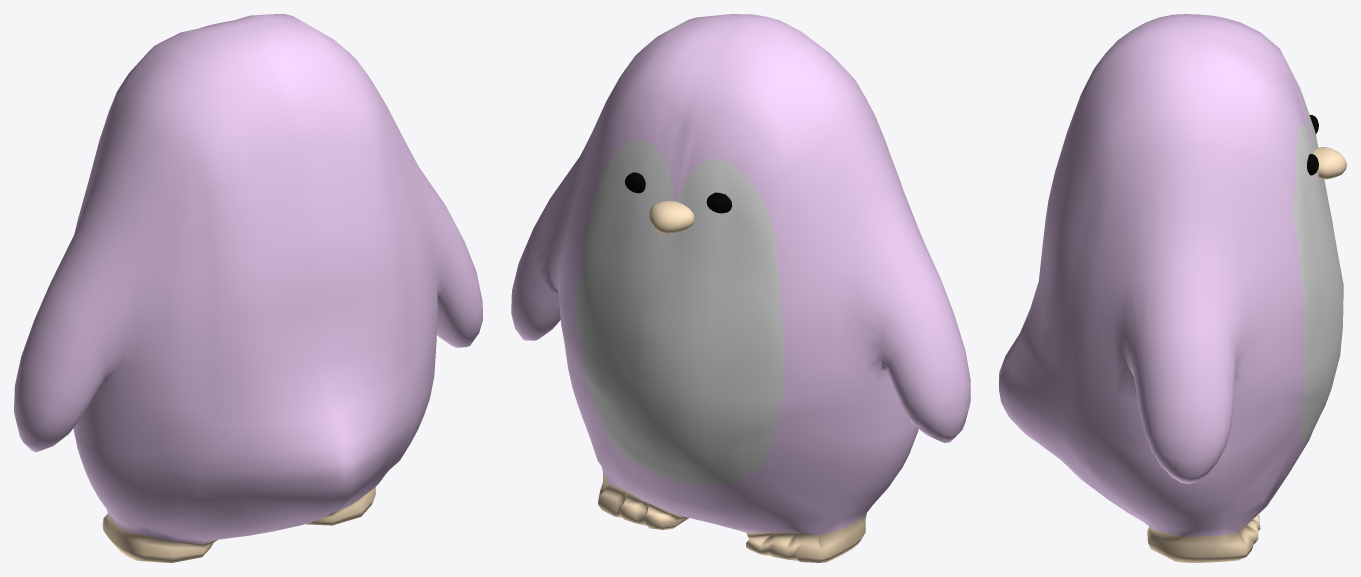
The model's file is PenguinStatic.fbx.
3 views of the same model, side by side, from view 1: azimuth 30°, elevation 25°; view 2: azimuth 150°, elevation 25°; view 3: azimuth 270°, elevation 25° (orthographic). The views are drawn at different scales.
Parts seen in each view (by area): view 1: pinguin5; view 2: pinguin5, schnabel3; view 3: pinguin5, schnabel3.
Part boxes in pixels (x1,y1,x2,y2): pinguin5: (14,14,482,562); pinguin5: (511,14,970,562); schnabel3: (649,201,694,233); pinguin5: (999,14,1343,562); schnabel3: (1314,147,1346,179).
Size of the model in its own units: 6.31 by 6.66 by 4.36.
